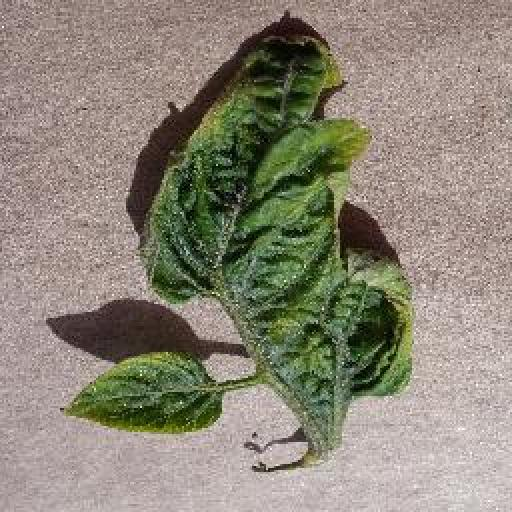Yellow Leaf Curl Virus: (141, 29, 420, 447), (63, 352, 220, 436)
